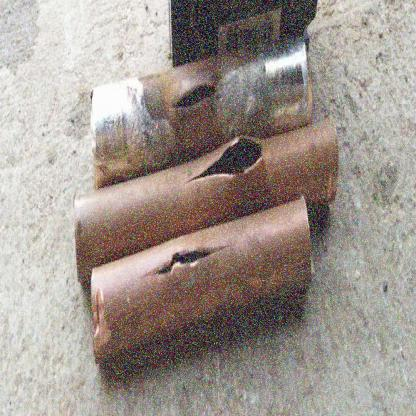burst: (140, 235, 235, 287), (193, 131, 271, 192), (168, 76, 225, 118)
